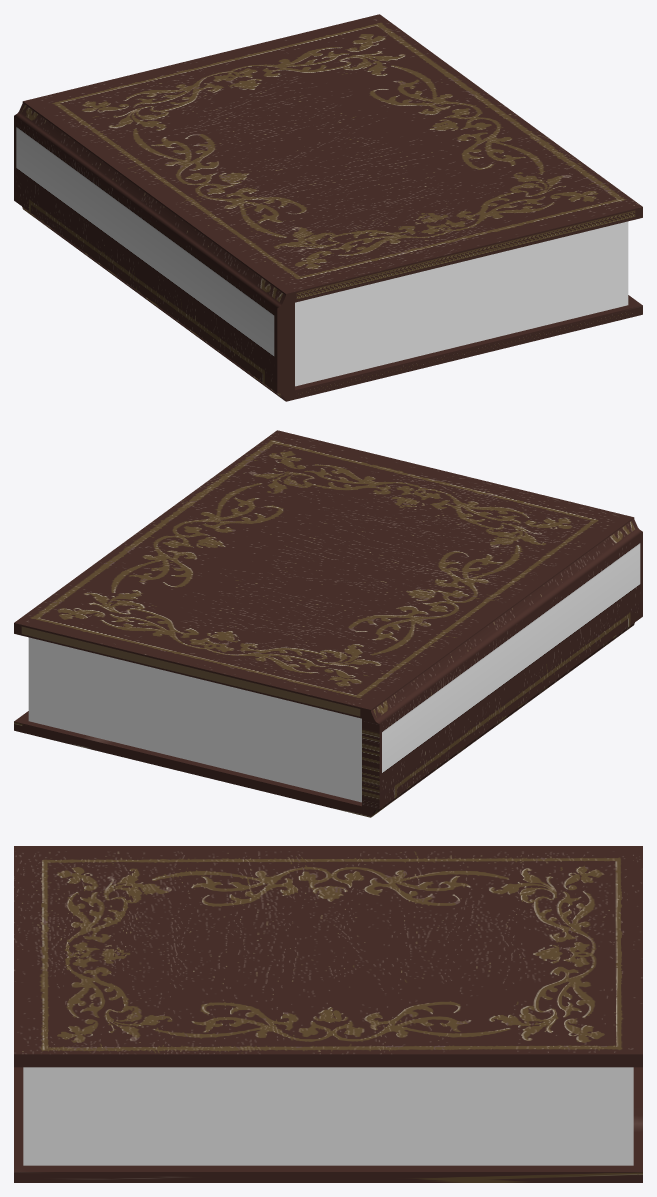
File: GreenBook.fbx
3 renders of one model, top to bottom at view 1: azimuth 30°, elevation 25°; view 2: azimuth 150°, elevation 25°; view 3: azimuth 270°, elevation 25°, orthographic. The views are drawn at different scales.
Parts seen in each view (by area): view 1: BlueBook:RedBook:book1:pCube5; view 2: BlueBook:RedBook:book1:pCube5; view 3: BlueBook:RedBook:book1:pCube5.
Boxes of the visible parts, left/top/right/bottom form: BlueBook:RedBook:book1:pCube5: left=14, top=14, right=642, bottom=401; BlueBook:RedBook:book1:pCube5: left=14, top=430, right=642, bottom=817; BlueBook:RedBook:book1:pCube5: left=14, top=846, right=642, bottom=1182.
Size of the model in its own units: 9.07 by 2.56 by 11.31.
